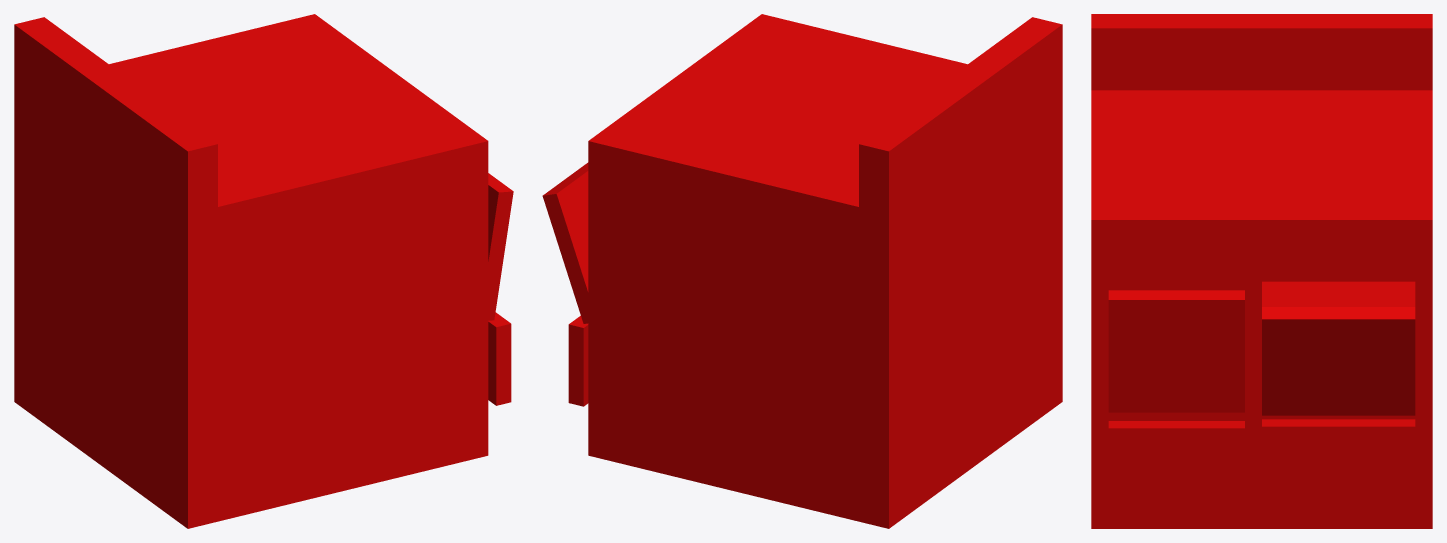
File: SM_Oven_Empty.fbx
The picture shows the model from 3 angles, left to right: view 1: azimuth 30°, elevation 25°; view 2: azimuth 150°, elevation 25°; view 3: azimuth 270°, elevation 25°; orthographic projection.
Visible parts, largest first — view 1: SM_Oven_Empty; view 2: SM_Oven_Empty; view 3: SM_Oven_Empty.
Boxes of the visible parts, x1,y1,x2,y2 form: SM_Oven_Empty: (14, 14, 513, 528); SM_Oven_Empty: (542, 14, 1062, 528); SM_Oven_Empty: (1091, 14, 1432, 528).
Size of the model in its own units: 118 by 120 by 100.
